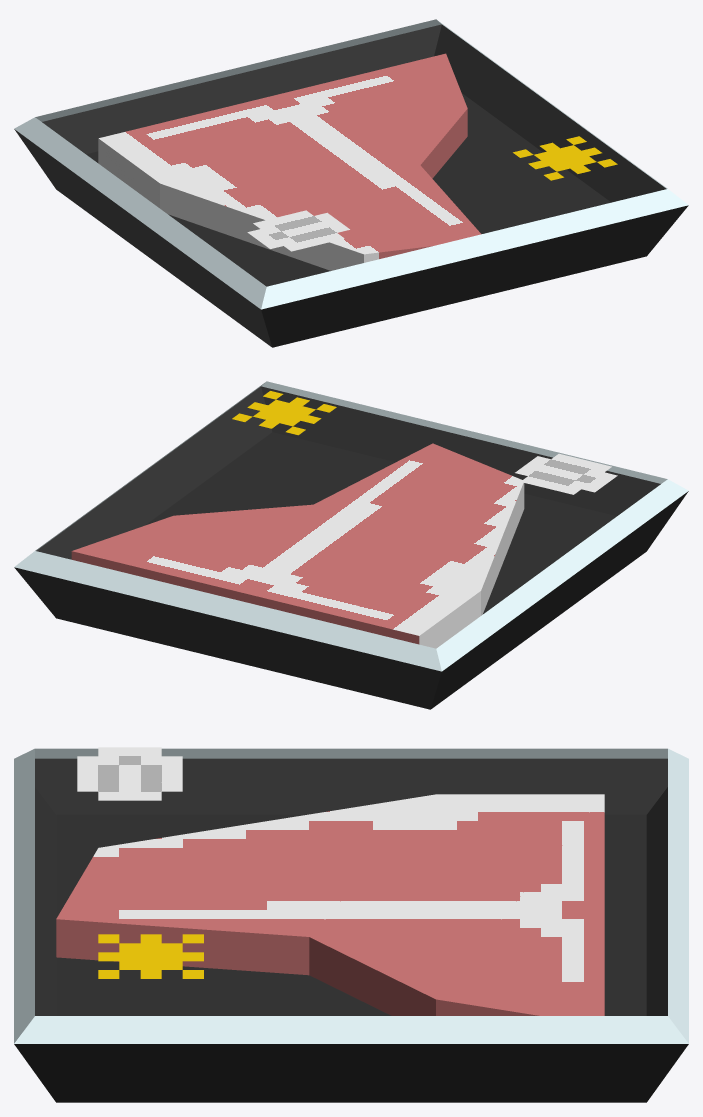
File: steak.gltf
The picture shows the model from 3 angles, top to bottom: view 1: azimuth 30°, elevation 25°; view 2: azimuth 150°, elevation 25°; view 3: azimuth 270°, elevation 25°; orthographic projection. The views are drawn at different scales.
Parts seen in each view (by area): view 1: box-col, steak, top-col; view 2: box-col, steak, top-col; view 3: box-col, steak, top-col.
Part boxes in pixels (bbox=[...]): box-col: bbox=[14, 24, 688, 347]; steak: bbox=[98, 53, 481, 270]; top-col: bbox=[14, 19, 688, 309]; box-col: bbox=[14, 386, 688, 709]; steak: bbox=[71, 443, 524, 648]; top-col: bbox=[14, 381, 688, 671]; box-col: bbox=[14, 758, 688, 1102]; steak: bbox=[56, 794, 604, 1015]; top-col: bbox=[14, 747, 688, 1043].
Size of the model in its own units: 1 by 0.1875 by 1.
Materials: 3 (3 with a texture image).
